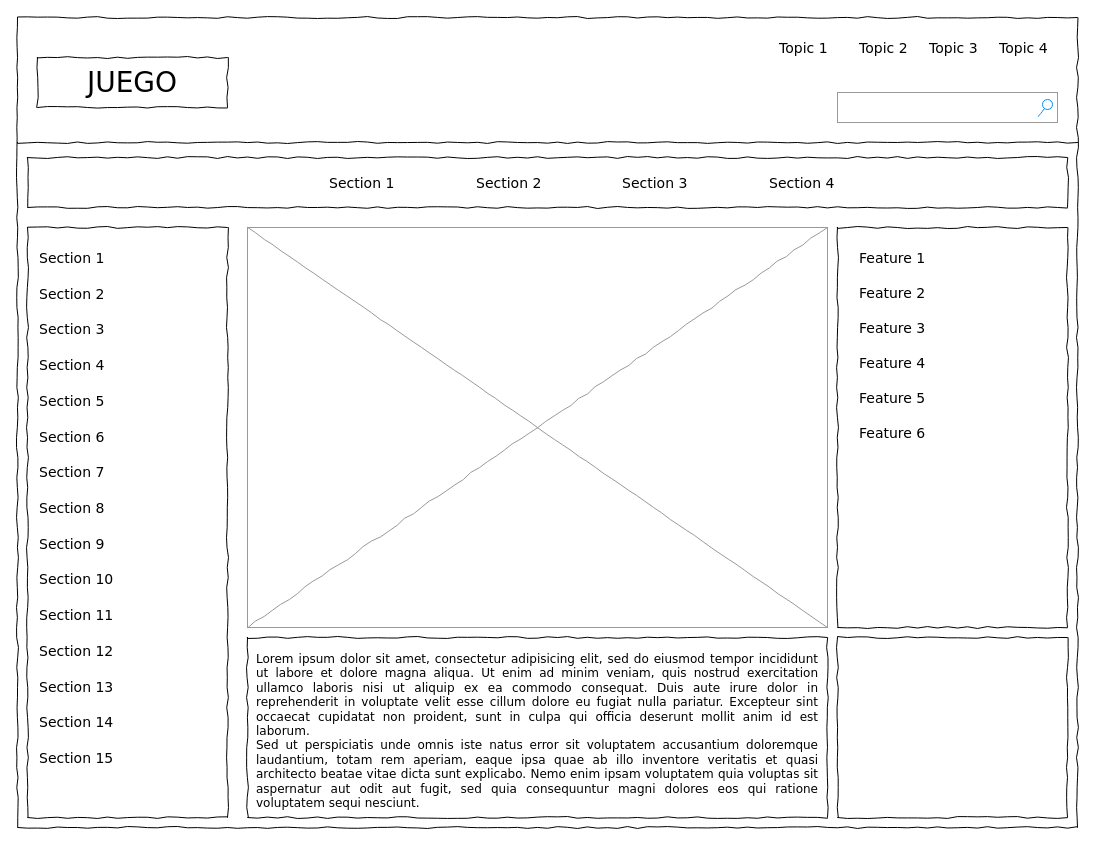
Image size: 1095x845. Some labels were removed from this diagram. The shapes that lost their labels are listed below. From the top down, each one's centre as x and y in pixels, then its label:
pixel 947 107: Search
pixel 952 727: External Links
